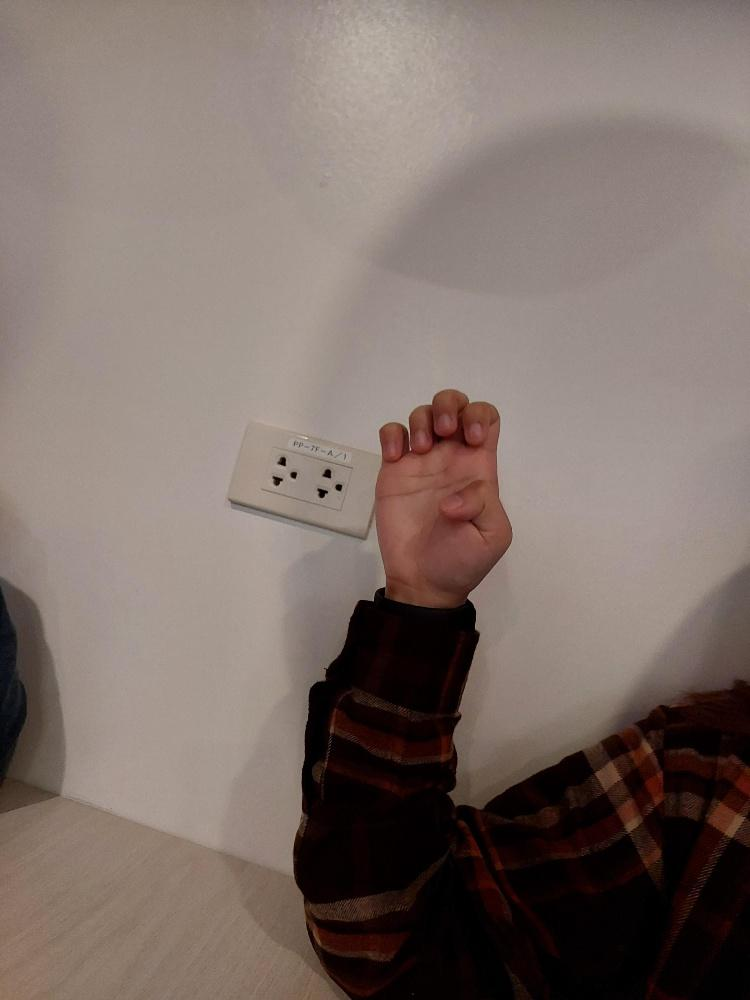e: (370, 386, 518, 601)
